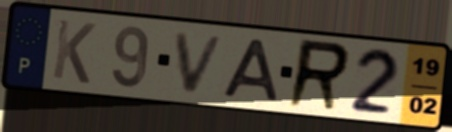2: (344, 44, 405, 120)
9: (110, 24, 150, 90)
A: (220, 37, 283, 104)
K: (49, 16, 98, 87)
R: (283, 36, 354, 114)
V: (172, 30, 229, 96)
